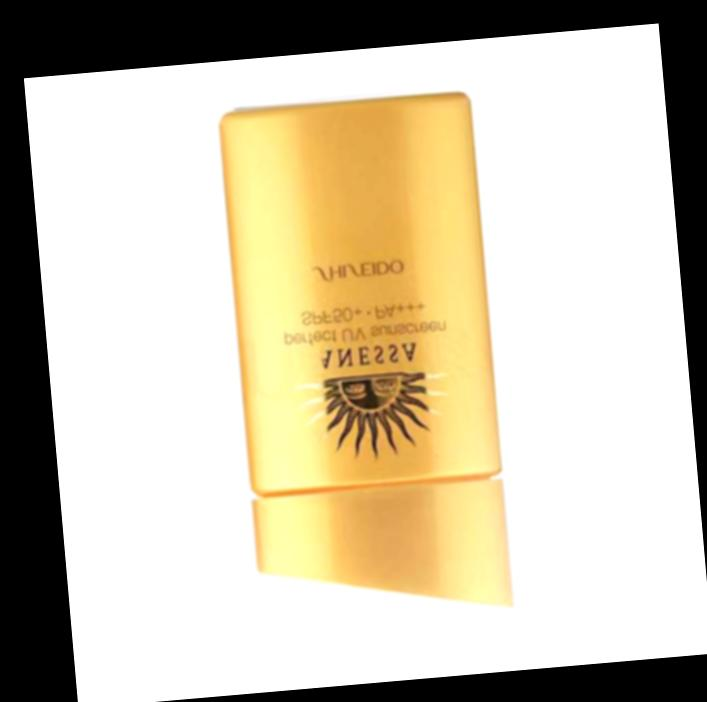cosmetic: (220, 92, 516, 645)
